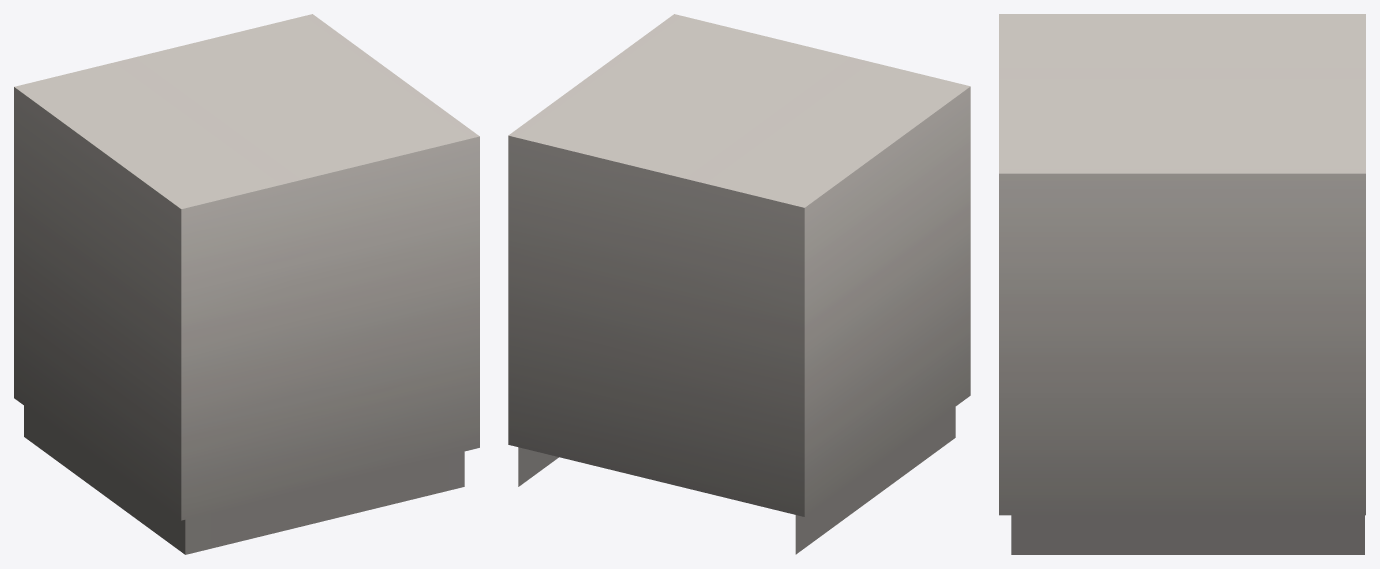
File: Unit_80cmBlock.fbx
3 views of the same model, side by side, from view 1: azimuth 30°, elevation 25°; view 2: azimuth 150°, elevation 25°; view 3: azimuth 270°, elevation 25° (orthographic). The views are drawn at different scales.
Visible parts, largest first — view 1: Unit_80cmBlock; view 2: Unit_80cmBlock; view 3: Unit_80cmBlock.
Boxes of the visible parts, x1=… form: Unit_80cmBlock: x1=14, y1=14, x2=479, y2=554; Unit_80cmBlock: x1=508, y1=14, x2=970, y2=554; Unit_80cmBlock: x1=999, y1=14, x2=1365, y2=554.
Size of the model in its own units: 79.85 by 90 by 77.48.
